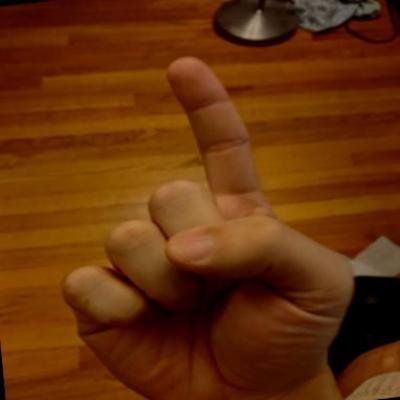hand: (34, 35, 375, 399)
